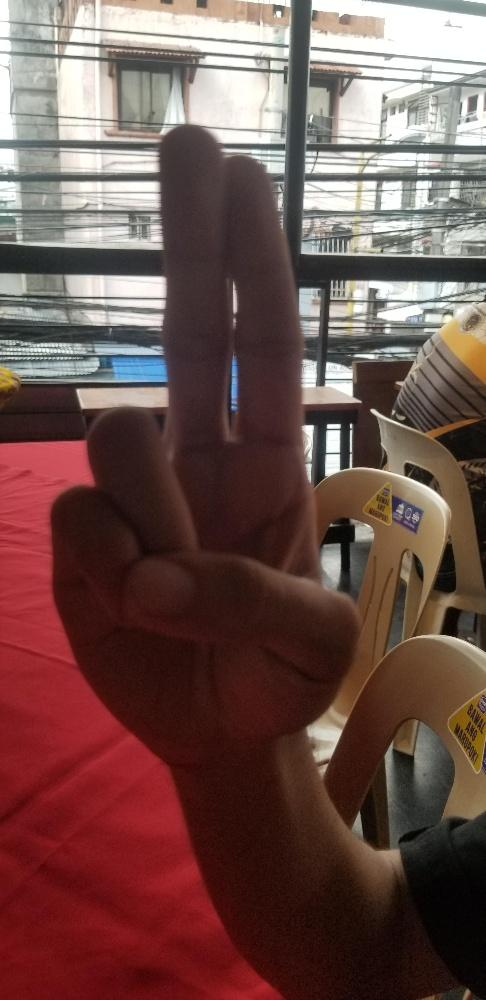u: (43, 115, 365, 761)
